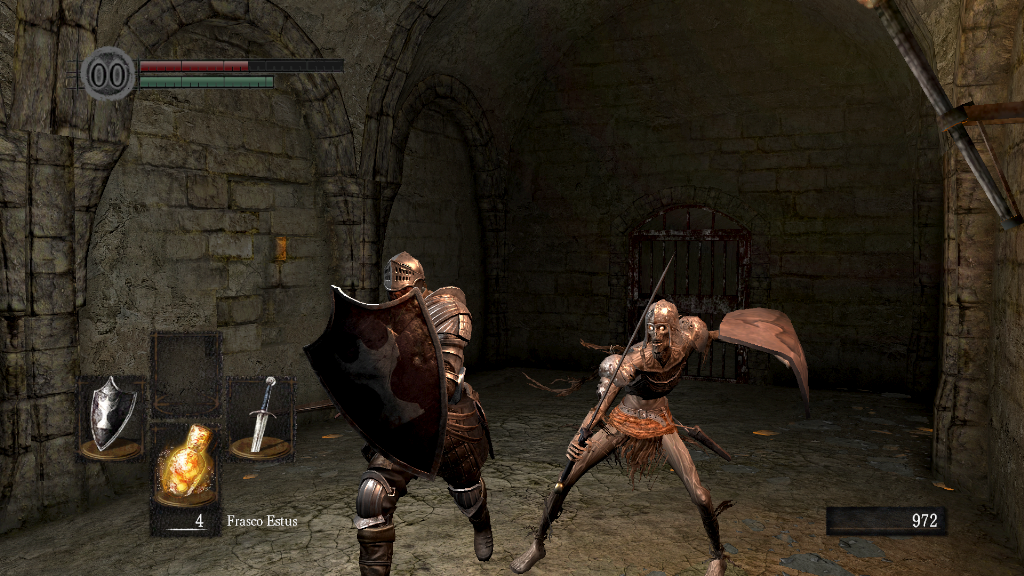health: (138, 58, 343, 71)
humanity: (80, 45, 136, 102)
player: (299, 251, 497, 576)
souls: (825, 506, 945, 536)
stamina: (138, 74, 274, 88)
undeadSoldier: (509, 300, 726, 576)
